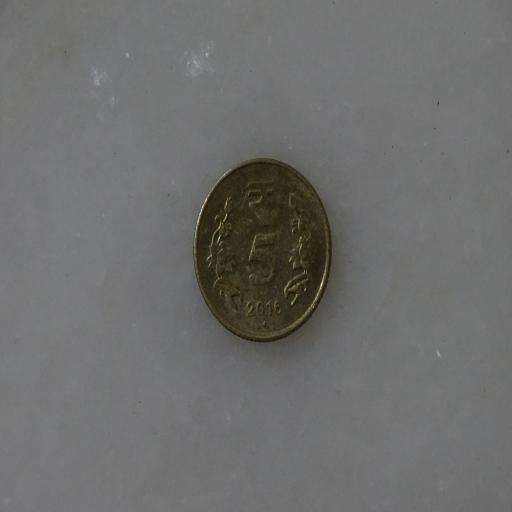rupee5: (192, 158, 333, 343)
